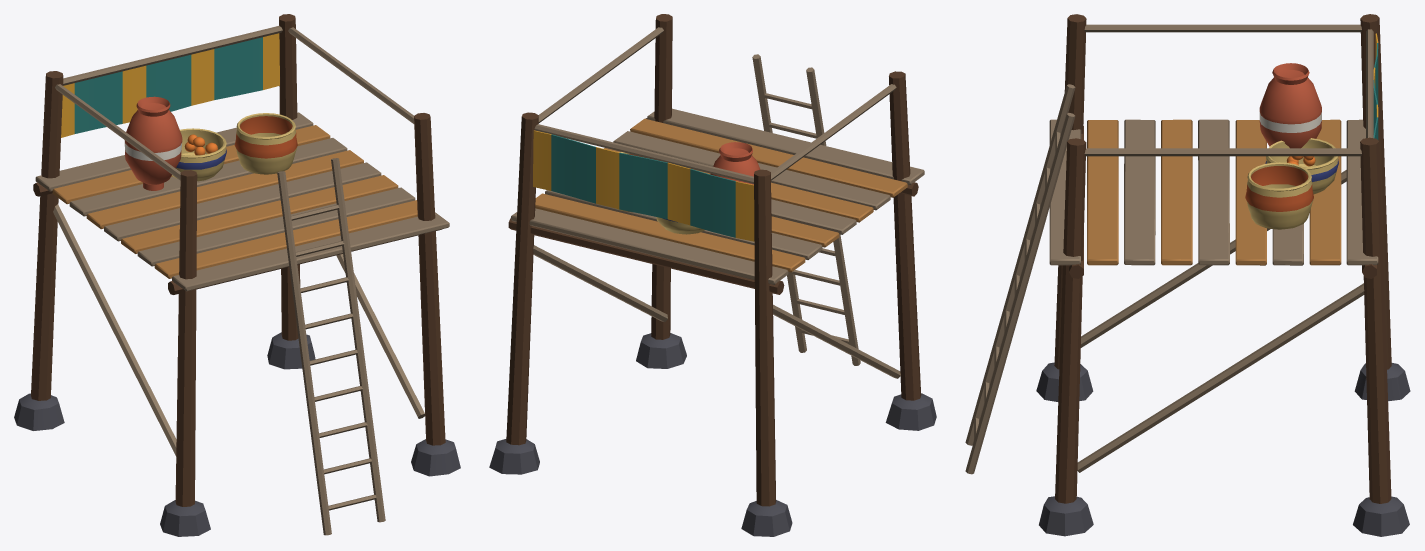
File: deco_stilt_platform.fbx
3 views of the same model, side by side, from view 1: azimuth 30°, elevation 25°; view 2: azimuth 150°, elevation 25°; view 3: azimuth 270°, elevation 25° (orthographic). The views are drawn at different scales.
Parts seen in each view (by area): view 1: StiltPlatform_Deck, StiltPlatform_Stilts, StiltPlatform_Railing, StiltPlatform_Goods, StiltPlatform_Ladder; view 2: StiltPlatform_Stilts, StiltPlatform_Deck, StiltPlatform_Railing, StiltPlatform_Ladder, StiltPlatform_Goods; view 3: StiltPlatform_Deck, StiltPlatform_Stilts, StiltPlatform_Goods, StiltPlatform_Ladder, StiltPlatform_Railing.
Boxes of the visible parts, box(x1,y1,x2,y2) form: StiltPlatform_Deck: box(33, 112, 449, 294); StiltPlatform_Stilts: box(14, 14, 460, 536); StiltPlatform_Railing: box(55, 25, 414, 180); StiltPlatform_Goods: box(124, 96, 297, 190); StiltPlatform_Ladder: box(277, 158, 385, 535); StiltPlatform_Stilts: box(489, 14, 936, 536); StiltPlatform_Deck: box(508, 108, 924, 294); StiltPlatform_Railing: box(533, 27, 896, 241); StiltPlatform_Ladder: box(752, 54, 860, 365); StiltPlatform_Goods: box(615, 142, 760, 234); StiltPlatform_Deck: box(1049, 119, 1378, 278); StiltPlatform_Stilts: box(1036, 14, 1410, 536); StiltPlatform_Goods: box(1245, 63, 1338, 229); StiltPlatform_Ladder: box(965, 84, 1075, 474); StiltPlatform_Railing: box(1084, 24, 1378, 156).
Bounding box in the file's own units: 332 × 372 × 395.
